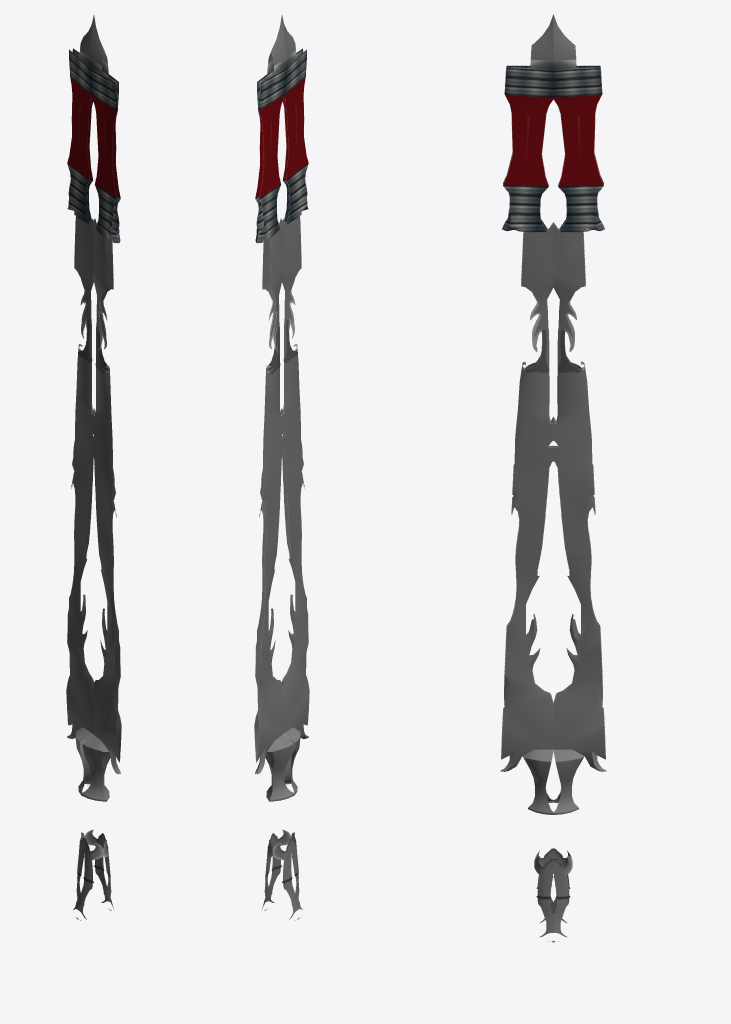
The model's file is xephiro_keyblade.obj.
3 renders of one model, left to right at view 1: azimuth 30°, elevation 25°; view 2: azimuth 150°, elevation 25°; view 3: azimuth 270°, elevation 25°, orthographic. The views are drawn at different scales.
Visible parts, largest first — view 1: Body.002_Vert.003; view 2: Body.002_Vert.003; view 3: Body.002_Vert.003.
Boxes of the visible parts, <box> form: Body.002_Vert.003: <box>66,15,121,920</box>; Body.002_Vert.003: <box>254,15,309,920</box>; Body.002_Vert.003: <box>500,14,606,942</box>.
Bounding box in the file's own units: 0.3727 × 10.27 × 3.05.
